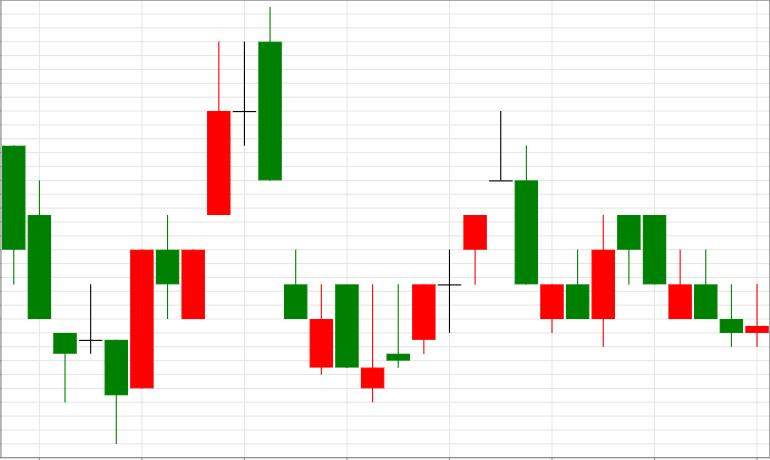inverse_hammer_rise: (233, 7, 384, 404)
